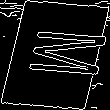M_E: (5, 29, 105, 81)
